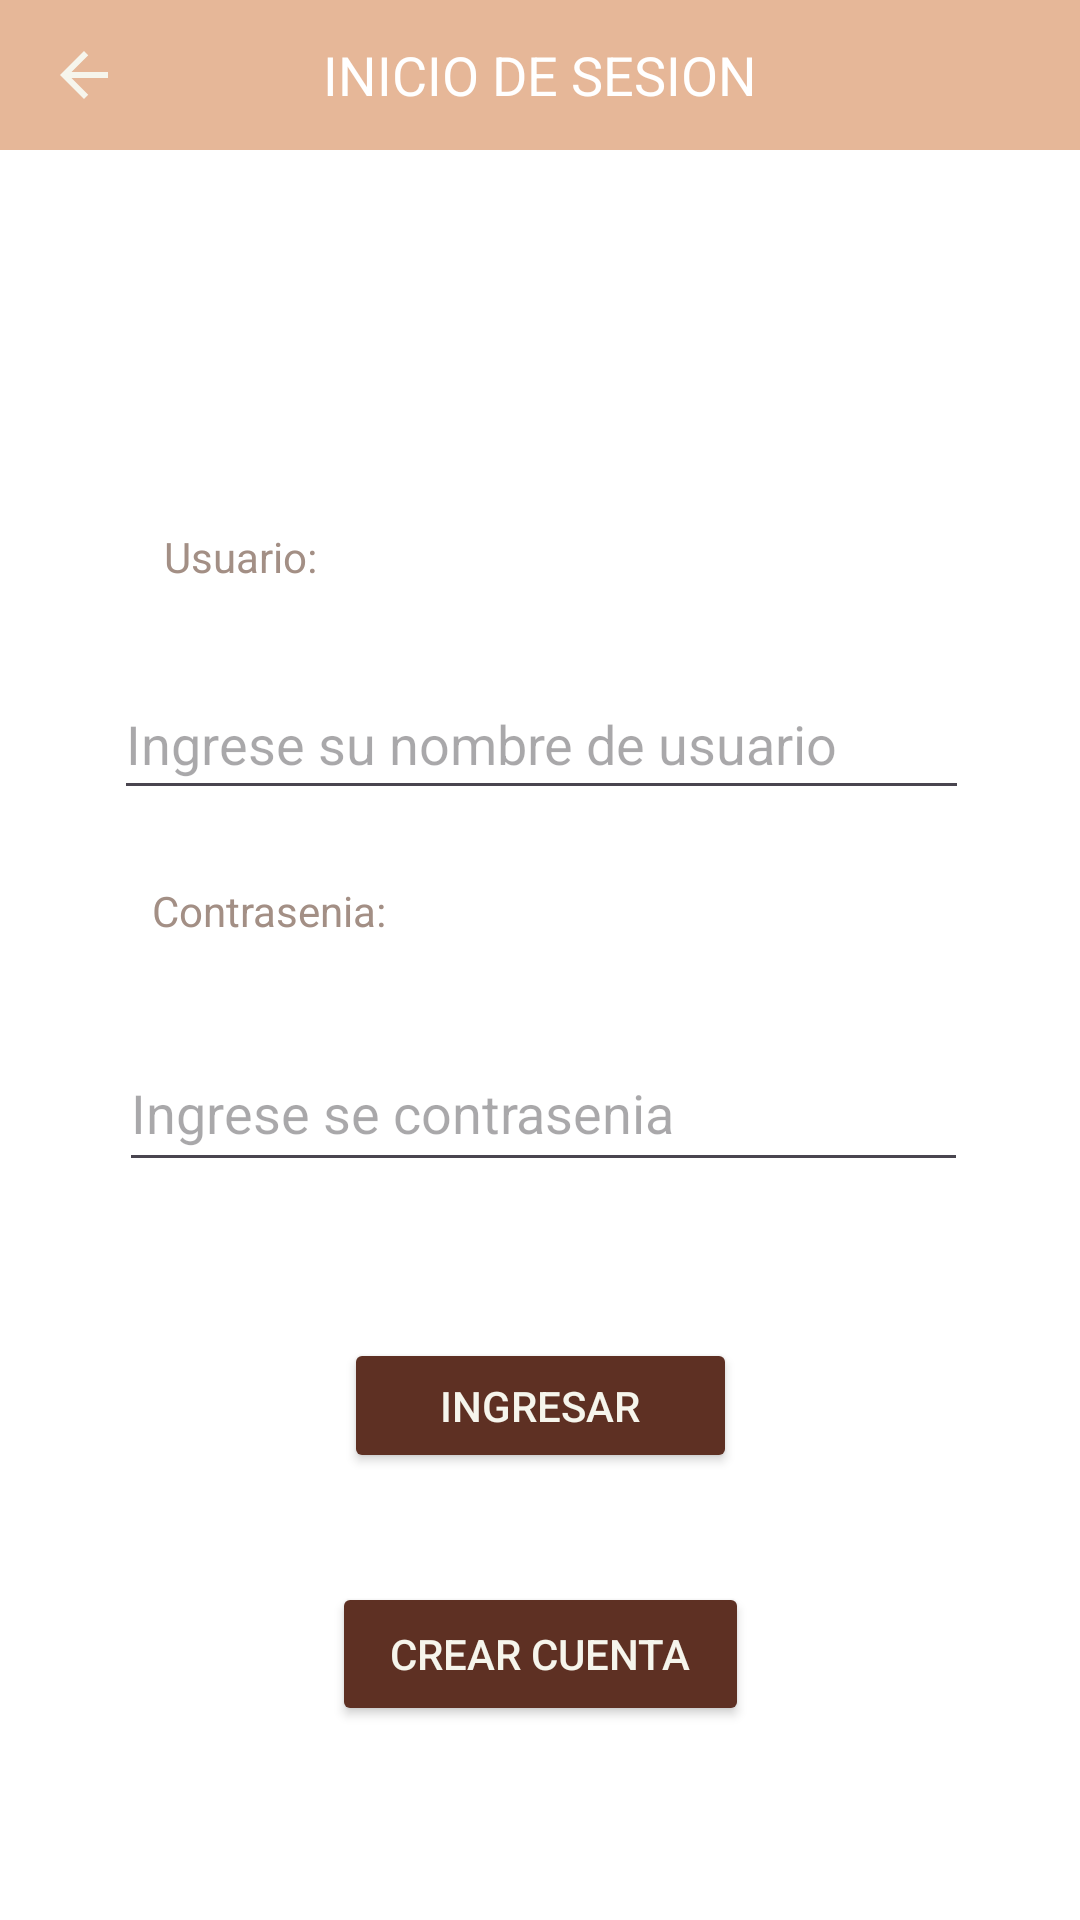

Named icons in this screenshot (1080 x 1920) and their centers, (x,y):
back activity: (84,75)
